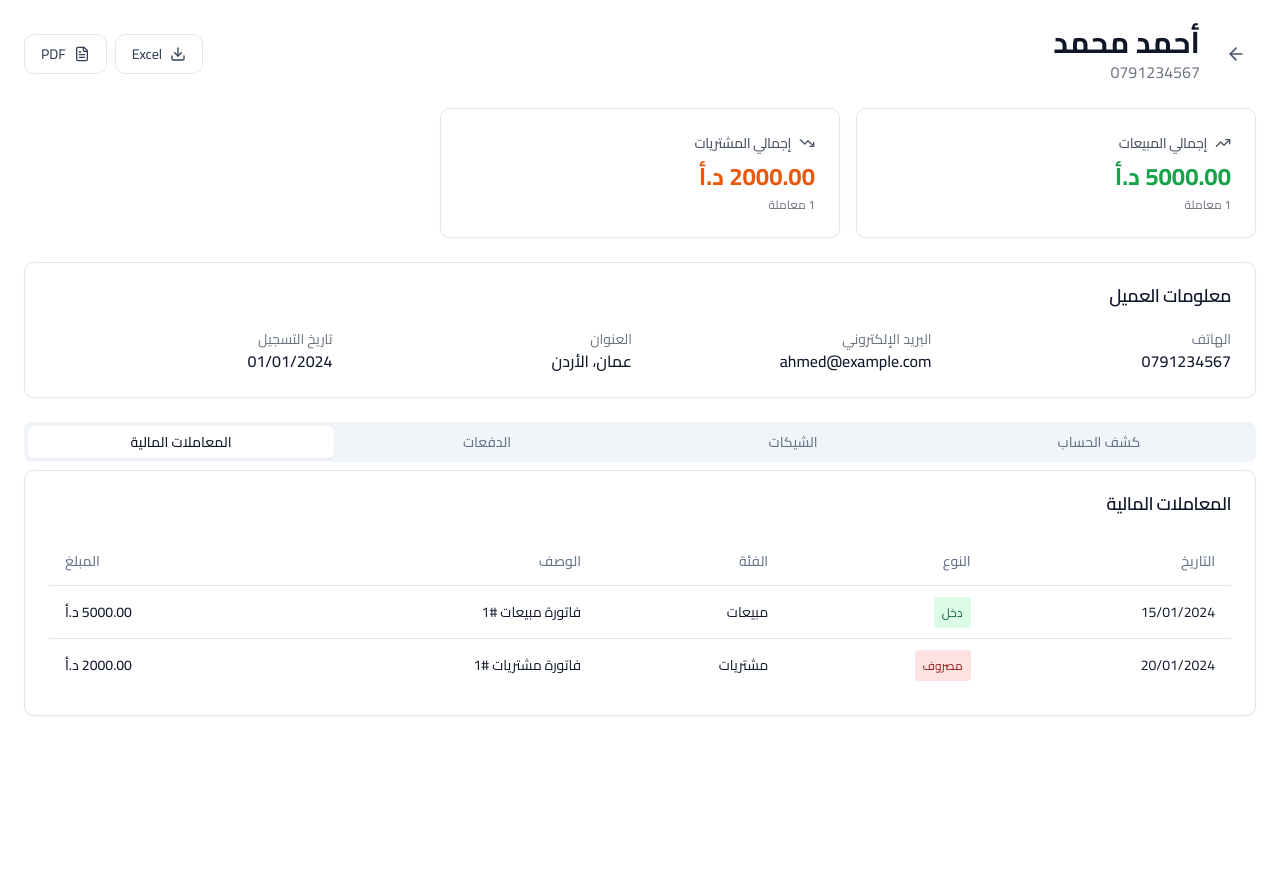
Test: ClientDetailPage › Transaction Detail Modal › should open modal when statement row is clicked
Click the tab "كشف الحساب".
click(1099, 442)  # box left=946, top=426, right=1252, bottom=458
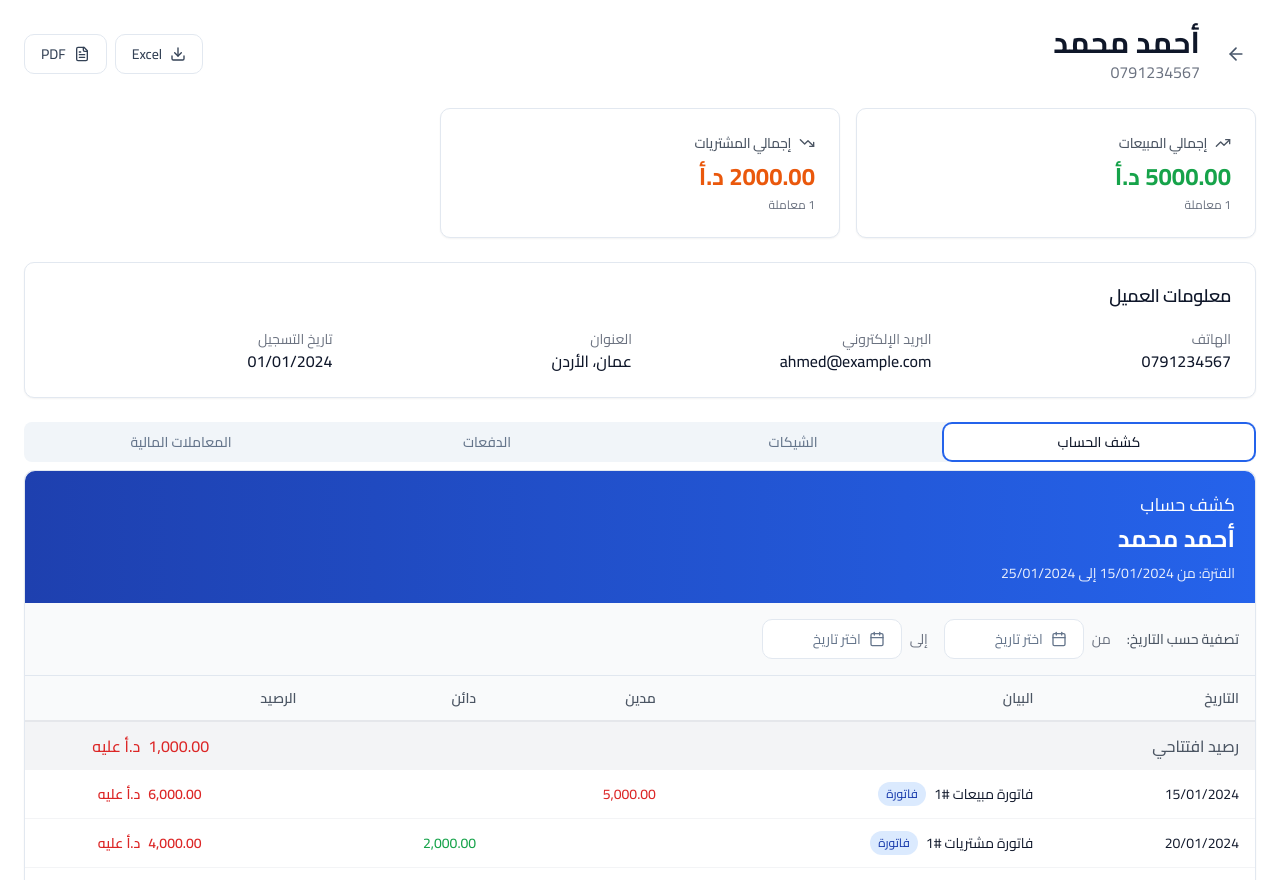
Click the 3rd row.
click(640, 794)  # box left=25, top=770, right=1255, bottom=818
(page scrolled)
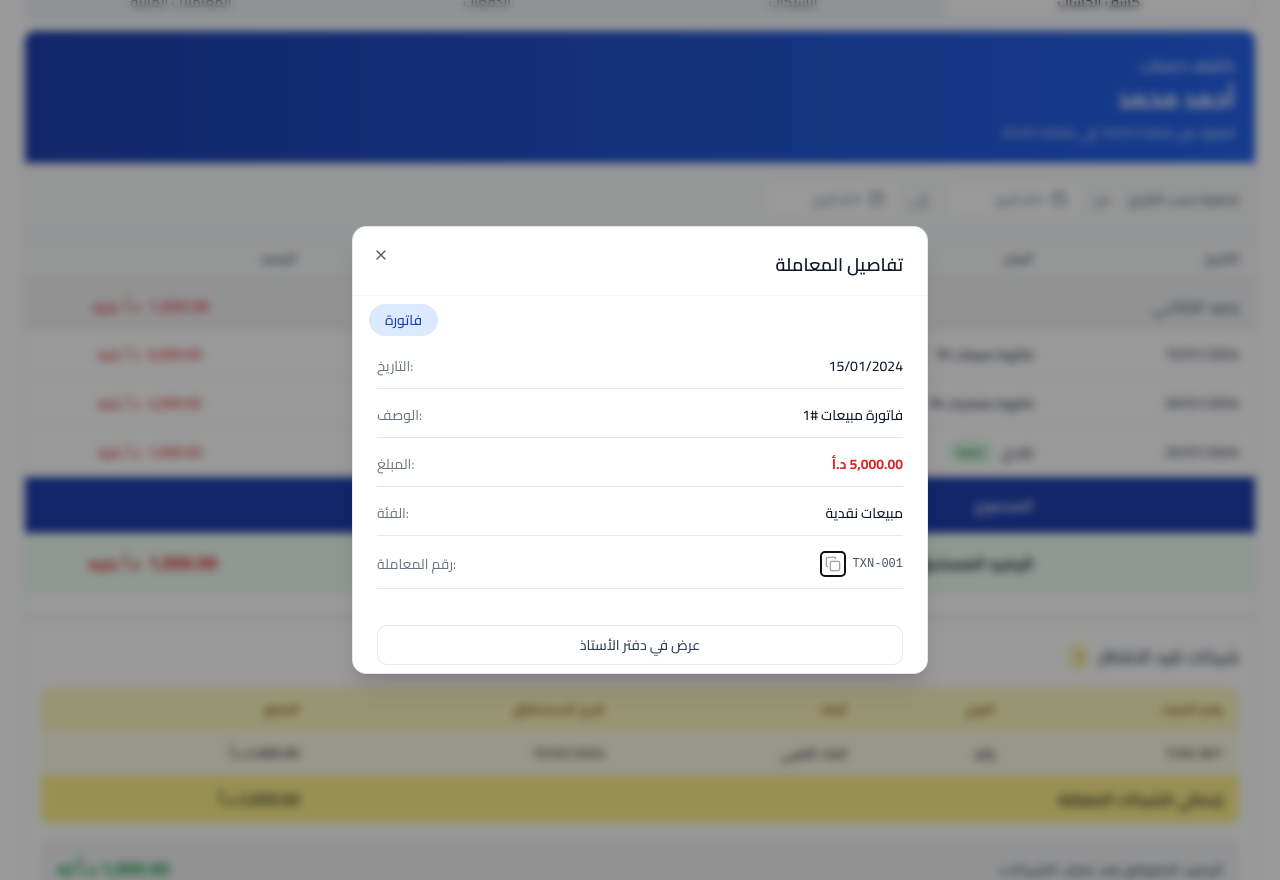
Expected: the dialog is shown, left=352, top=226, right=928, bottom=674
Expected: the heading "تفاصيل المعاملة" is shown, left=775, top=248, right=903, bottom=281
